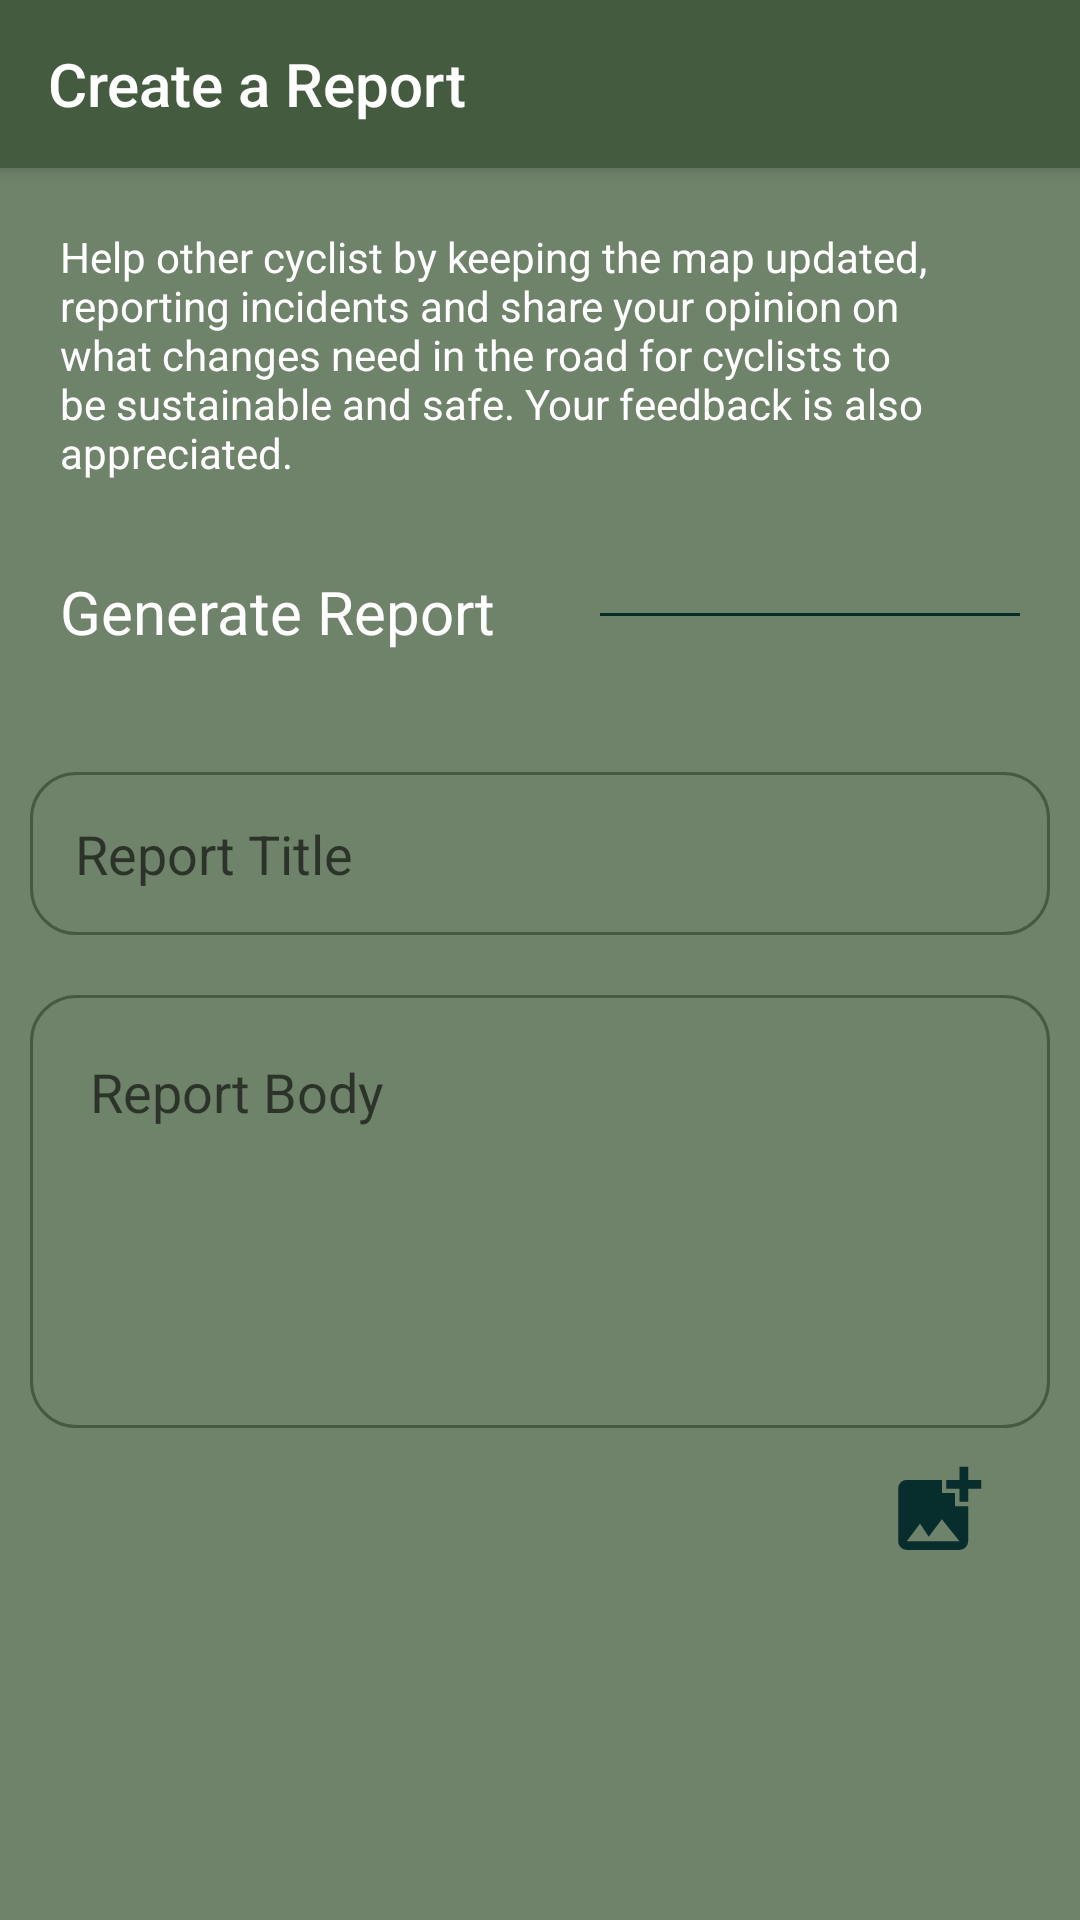

Named icons in this screenshot (1080 x 1920) and their bounding boxes, (x1, y1, x2, y2):
add photo alternate: (898, 1466, 982, 1550)
